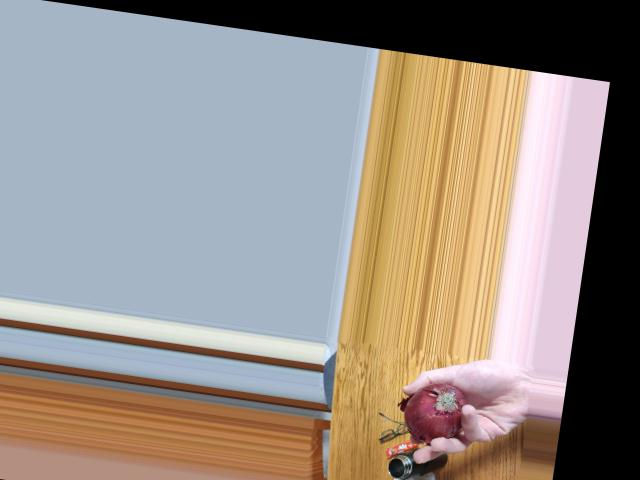onion: (403, 379, 470, 441)
